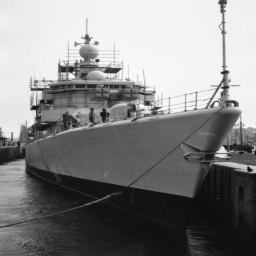Fragata: (24, 16, 244, 230)
